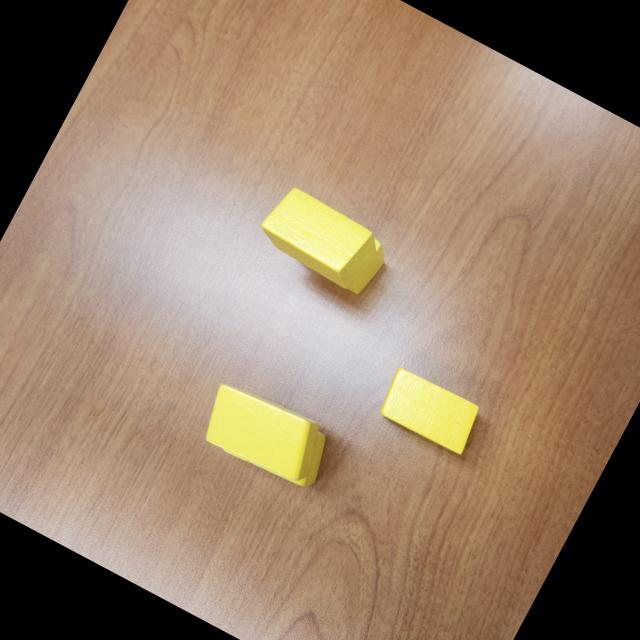yellow: (191, 372, 333, 492), (252, 181, 386, 295), (215, 390, 340, 497), (372, 362, 487, 457), (290, 208, 394, 302)
